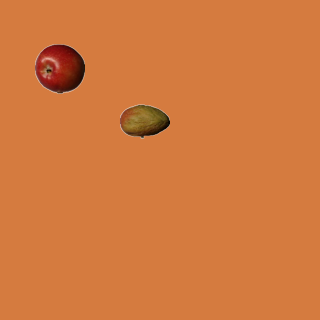Apple Braeburn: (34, 43, 84, 93)
Papaya: (119, 96, 169, 146)
